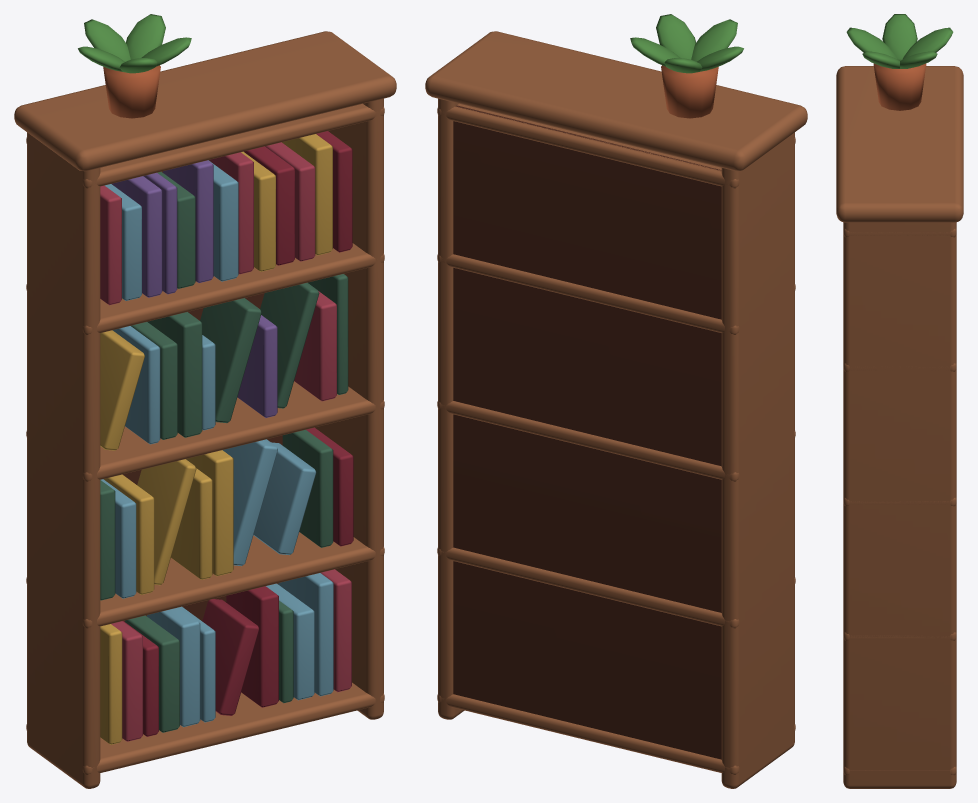
File: bookshelf.glb
The picture shows the model from 3 angles, left to right: view 1: azimuth 30°, elevation 25°; view 2: azimuth 150°, elevation 25°; view 3: azimuth 270°, elevation 25°; orthographic projection. The views are drawn at different scales.
Visible parts, largest first — view 1: bookshelf; view 2: bookshelf; view 3: bookshelf.
Boxes of the visible parts, x1,y1,x2,y2 form: bookshelf: (14,14,396,788); bookshelf: (425,14,807,788); bookshelf: (836,14,963,788).
Size of the model in its own units: 0.96 by 2.04 by 0.36.
